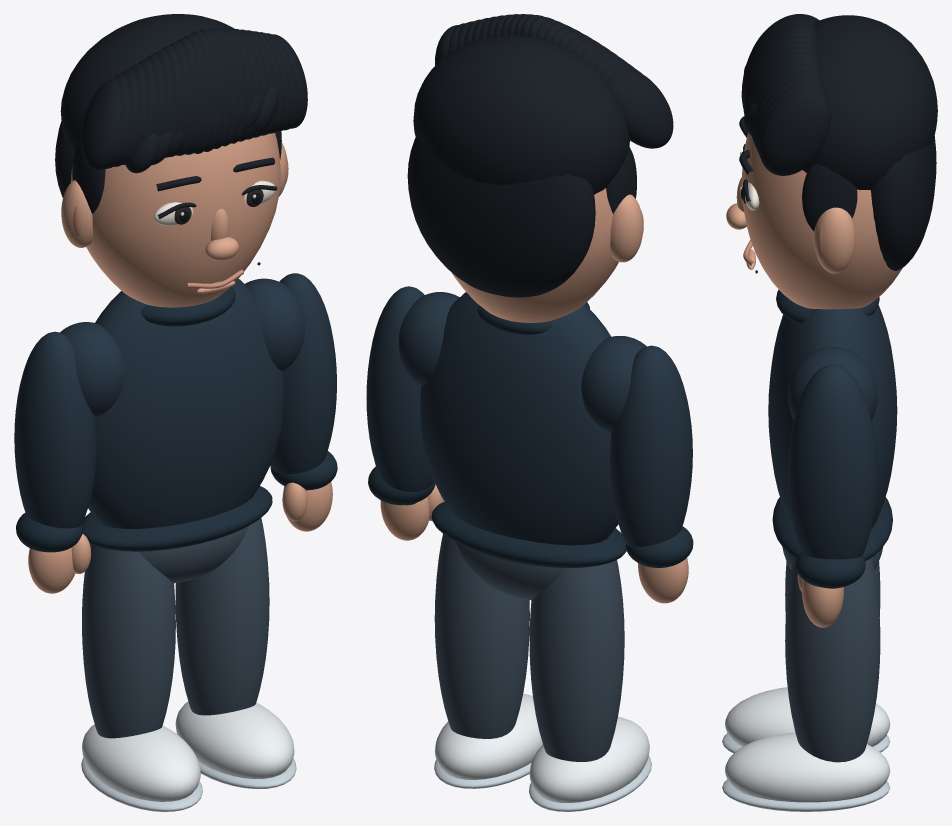
File: jin-fengzhou.glb
3 renders of one model, left to right at view 1: azimuth 30°, elevation 25°; view 2: azimuth 150°, elevation 25°; view 3: azimuth 270°, elevation 25°, orthographic.
Visible parts, largest first — view 1: torso, swept_hair (×22), sleeve (×2), head_shape, leg_-1, leg_1, shoulder (×2), shoe_-1, shoe_1, hair_cap, hem, hand (×2) (+11 smaller); view 2: torso, hair_cap, sleeve (×2), back_hair, leg_-1, leg_1, shoulder (×2), shoe_-1, head_shape, shoe_1, hem, swept_hair (+8 smaller); view 3: hair_cap, sleeve, leg_1, head_shape, torso, swept_hair (×12), shoe_1, back_hair, shoe_-1, shoulder, sideburn, ear (+5 smaller).
Part boxes in pixels (x1=…): torso: x1=88, y1=279, x2=283, y2=528; swept_hair (×22): x1=81, y1=28, x2=307, y2=170; sleeve (×2): x1=14, y1=273, x2=336, y2=528; head_shape: x1=71, y1=132, x2=280, y2=307; leg_-1: x1=82, y1=543, x2=175, y2=738; leg_1: x1=175, y1=518, x2=269, y2=715; shoulder (×2): x1=60, y1=278, x2=305, y2=417; shoe_-1: x1=82, y1=724, x2=200, y2=801; shoe_1: x1=175, y1=701, x2=294, y2=778; hair_cap: x1=60, y1=14, x2=234, y2=154; hem: x1=82, y1=486, x2=272, y2=551; hand (×2): x1=28, y1=482, x2=332, y2=593; torso: x1=420, y1=292, x2=618, y2=545; hair_cap: x1=413, y1=35, x2=629, y2=194; sleeve (×2): x1=366, y1=286, x2=692, y2=547; back_hair: x1=407, y1=137, x2=595, y2=297; leg_-1: x1=529, y1=560, x2=624, y2=761; leg_1: x1=434, y1=534, x2=529, y2=738; shoulder (×2): x1=398, y1=292, x2=646, y2=431; shoe_-1: x1=529, y1=717, x2=649, y2=802; head_shape: x1=452, y1=188, x2=618, y2=322; shoe_1: x1=434, y1=694, x2=542, y2=779; hem: x1=431, y1=501, x2=626, y2=568; swept_hair: x1=606, y1=68, x2=673, y2=148; hair_cap: x1=802, y1=15, x2=937, y2=190; sleeve: x1=788, y1=364, x2=877, y2=559; leg_1: x1=785, y1=558, x2=880, y2=762; head_shape: x1=742, y1=133, x2=902, y2=309; torso: x1=768, y1=305, x2=897, y2=529; swept_hair (×12): x1=741, y1=27, x2=830, y2=175; shoe_1: x1=725, y1=732, x2=890, y2=802; back_hair: x1=871, y1=136, x2=936, y2=270; shoe_-1: x1=725, y1=687, x2=890, y2=746; shoulder: x1=788, y1=346, x2=877, y2=419; sideburn: x1=802, y1=164, x2=857, y2=231; ear: x1=814, y1=207, x2=855, y2=273.
Bounding box in the file's own units: 2.6 × 5.96 × 1.54.
